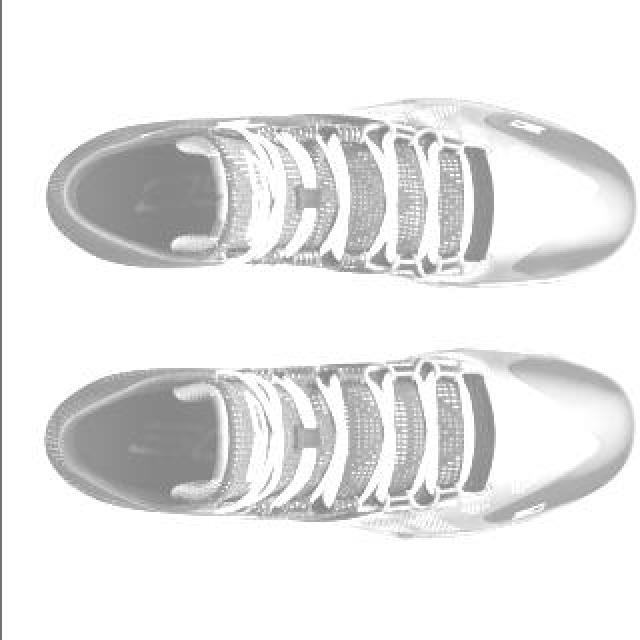shoe: (36, 344, 640, 544), (37, 95, 639, 295)
